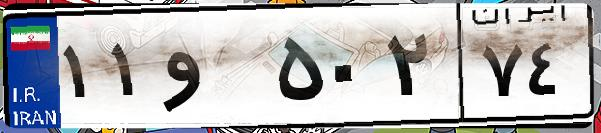0: (330, 28, 385, 110)
1: (57, 26, 110, 100), (110, 28, 158, 98)
2: (385, 28, 445, 110)
4: (525, 38, 570, 115)
5: (270, 28, 330, 110)
7: (475, 38, 525, 113)
و: (158, 20, 270, 120)
